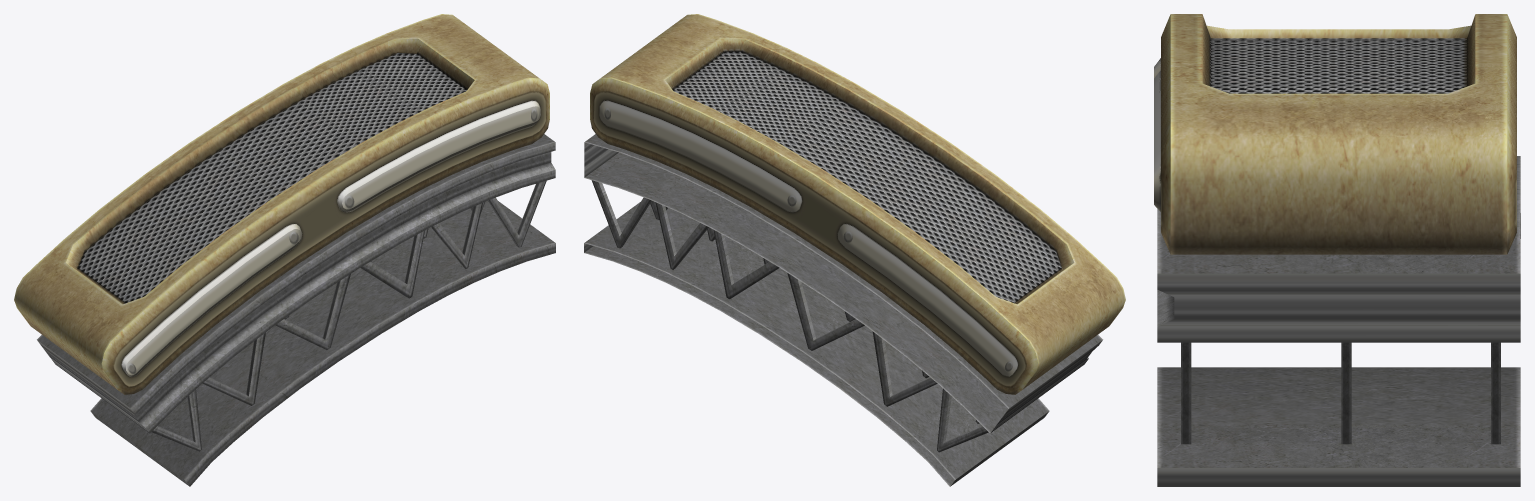
File: platform_bent.FBX
3 views of the same model, side by side, from view 1: azimuth 30°, elevation 25°; view 2: azimuth 150°, elevation 25°; view 3: azimuth 270°, elevation 25° (orthographic). The views are drawn at different scales.
Visible parts, largest first — view 1: platform_bent; view 2: platform_bent; view 3: platform_bent.
Part boxes in pixels (box(x1,y1,x2,y2)): platform_bent: box(14, 14, 555, 486); platform_bent: box(584, 14, 1125, 486); platform_bent: box(1154, 14, 1520, 486).
Size of the model in its own units: 103 by 70.14 by 37.62.
